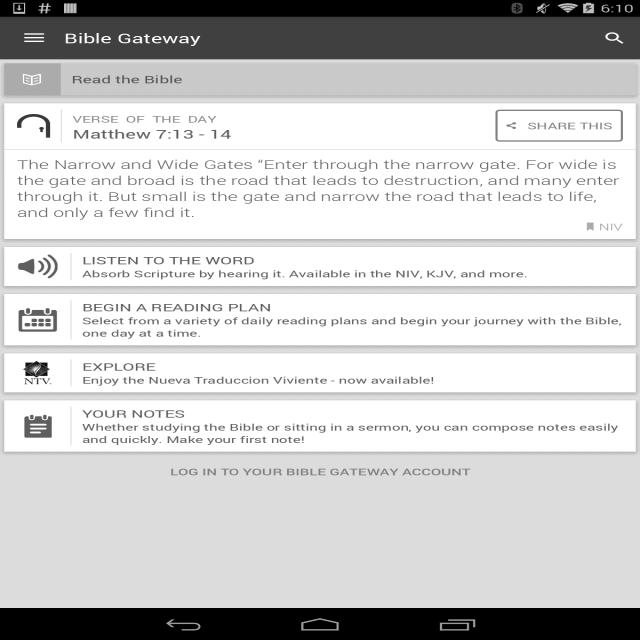Button: (495, 110, 623, 142)
ImageButton: (0, 19, 60, 57)
ImageView: (17, 253, 70, 280), (17, 360, 70, 385), (17, 308, 70, 332), (17, 414, 70, 438), (17, 114, 50, 138), (23, 74, 42, 86)
TextView: (17, 157, 623, 220), (0, 456, 640, 488), (82, 314, 623, 340), (82, 420, 623, 446), (71, 72, 636, 86), (82, 267, 528, 280), (82, 374, 435, 386), (82, 300, 272, 314), (73, 126, 232, 142), (64, 29, 201, 47), (82, 253, 255, 267), (72, 113, 216, 125), (589, 22, 640, 54), (82, 406, 186, 421), (82, 359, 156, 374), (587, 220, 623, 233)
